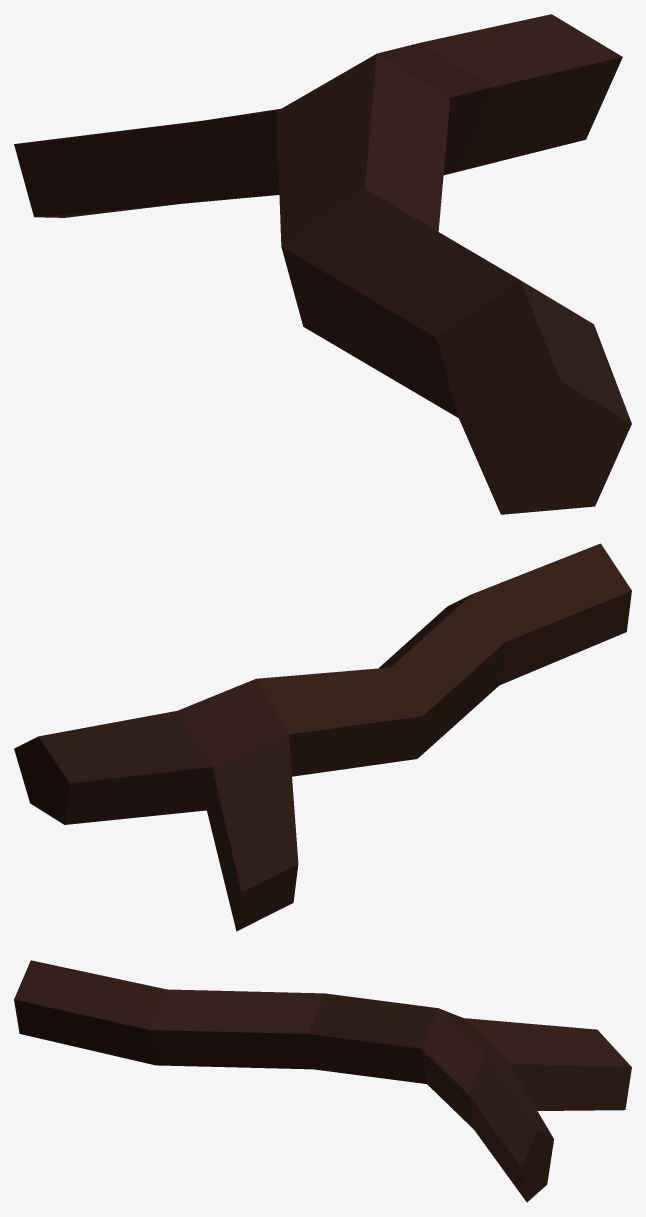
File: Branch1.fbx
The picture shows the model from 3 angles, top to bottom: view 1: azimuth 30°, elevation 25°; view 2: azimuth 150°, elevation 25°; view 3: azimuth 270°, elevation 25°; orthographic projection. The views are drawn at different scales.
Visible parts, largest first — view 1: Cylinder.025; view 2: Cylinder.025; view 3: Cylinder.025.
Boxes of the visible parts, x1,y1,x2,y2 form: Cylinder.025: (14,14,631,514); Cylinder.025: (14,543,631,931); Cylinder.025: (14,960,631,1202).
Size of the model in its own units: 61.22 by 25.81 by 104.
